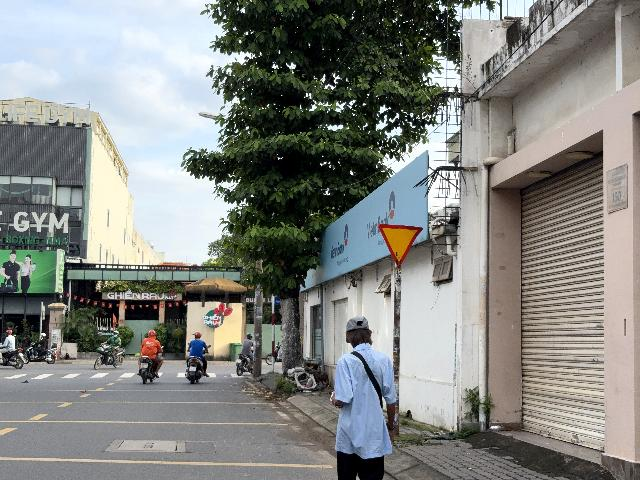giao-nhau-voi-duong-uu-tien: (377, 223, 423, 267)
